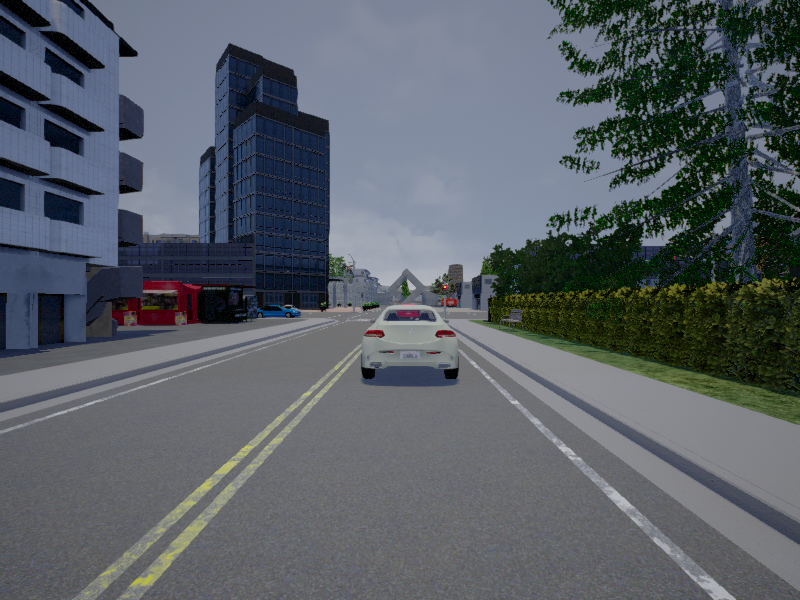Benign: (358, 303, 458, 380), (258, 303, 301, 318)
